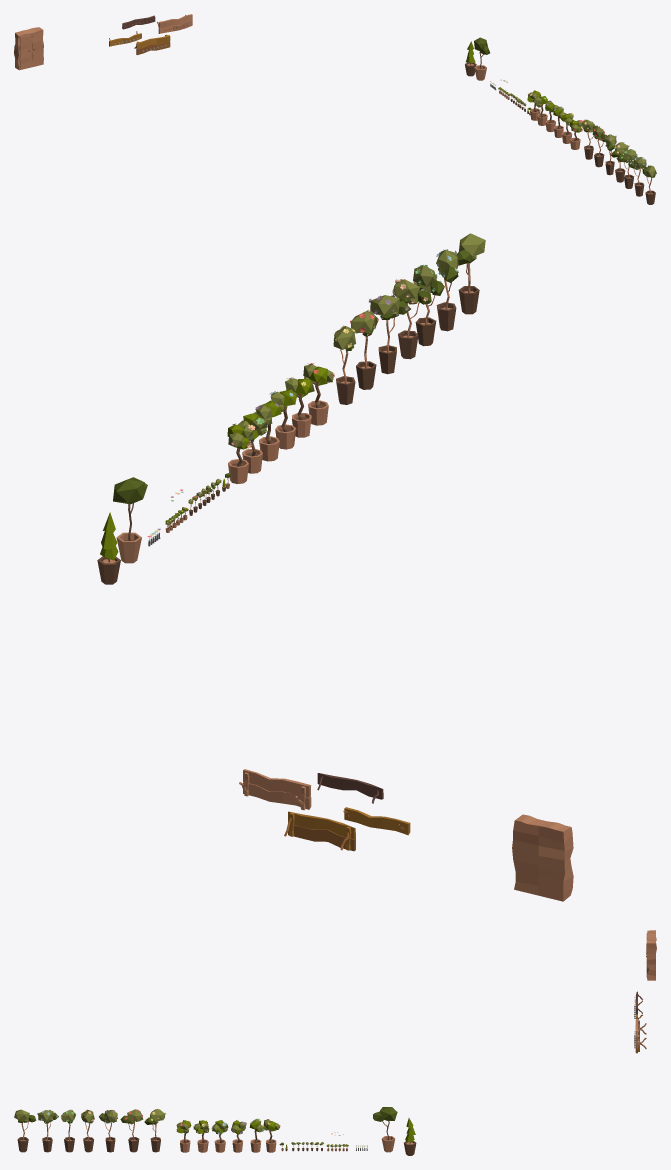
File: additional_assets.fbx
3 views of the same model, one above another, from view 1: azimuth 30°, elevation 25°; view 2: azimuth 150°, elevation 25°; view 3: azimuth 270°, elevation 25° (orthographic). The views are drawn at different scales.
Parts seen in each view (by area): view 1: Cabinet, Wardrobe, Wardrobe.001, Tree.001, Tall_Flower_Tree.001, Tall_Flower_Tree, Tall_Flower_Tree.004, Tall_Flower_Tree.002, Tall_Flower_Tree.005, Tree, Tall_Flower_Tree.003; view 2: Cabinet, Wardrobe.001, Wardrobe, Tree.001, Tall_Flower_Tree.003, Tall_Flower_Tree.002, Tree, Tall_Flower_Tree.001, Tall_Flower_Tree, Tall_Flower_Tree.004, Tall_Flower_Tree.011, Pine (+2 smaller); view 3: Cabinet, Tree.001, Tall_Flower_Tree.004, Tree, Tall_Flower_Tree.005, Tall_Flower_Tree, Tall_Flower_Tree.003.
Boxes of the visible parts, x1,y1,x2,y2 form: Cabinet: [14, 27, 43, 70]; Wardrobe: [134, 34, 170, 55]; Wardrobe.001: [157, 14, 192, 33]; Tree.001: [474, 37, 489, 80]; Tall_Flower_Tree.001: [616, 149, 637, 188]; Tall_Flower_Tree: [628, 157, 646, 196]; Tall_Flower_Tree.004: [592, 126, 607, 167]; Tall_Flower_Tree.002: [610, 142, 629, 182]; Tall_Flower_Tree.005: [581, 119, 598, 159]; Tree: [642, 165, 656, 204]; Tall_Flower_Tree.003: [605, 134, 616, 175]; Cabinet: [512, 814, 573, 901]; Wardrobe.001: [239, 769, 311, 810]; Wardrobe: [284, 811, 355, 851]; Tree.001: [113, 477, 147, 563]; Tall_Flower_Tree.003: [368, 295, 410, 374]; Tall_Flower_Tree.002: [392, 279, 431, 359]; Tree: [456, 233, 485, 314]; Tall_Flower_Tree.001: [413, 264, 444, 346]; Tall_Flower_Tree: [436, 249, 458, 331]; Tall_Flower_Tree.004: [350, 310, 378, 389]; Tall_Flower_Tree.011: [227, 423, 255, 483]; Pine: [97, 512, 120, 584]; Cabinet: [646, 930, 656, 980]; Tree.001: [373, 1107, 397, 1152]; Tall_Flower_Tree.004: [120, 1109, 143, 1152]; Tree: [14, 1109, 36, 1152]; Tall_Flower_Tree.005: [144, 1109, 166, 1152]; Tall_Flower_Tree: [37, 1110, 58, 1152]; Tall_Flower_Tree.003: [99, 1110, 117, 1152].
Bounding box in the file's own units: 23.97 × 2.99 × 35.41.
